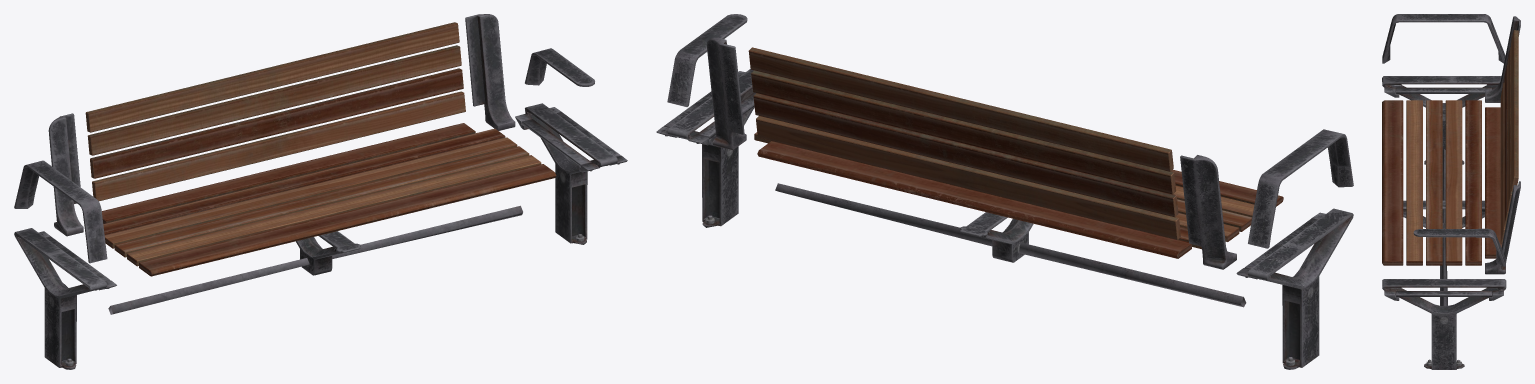
File: StreetBench.obj
The picture shows the model from 3 angles, left to right: view 1: azimuth 30°, elevation 25°; view 2: azimuth 150°, elevation 25°; view 3: azimuth 270°, elevation 25°; orthographic projection. The views are drawn at different scales.
Parts seen in each view (by area): view 1: seat_back, seat, legs_double, legs_single, back_support_l, crossbar, arm_rest_01, back_support_r, suspended_support_01, arm_rest_02; view 2: seat_back, seat, legs_single, legs_double, crossbar, back_support_r, arm_rest_01, back_support_l, arm_rest_02, suspended_support_01; view 3: seat, legs_double, seat_back, legs_single, arm_rest_01, arm_rest_02, back_support_l, back_support_r, crossbar, suspended_support_01.
Boxes of the visible parts, x1=… form: seat_back: x1=85, y1=22, x2=465, y2=201; seat: x1=102, y1=123, x2=556, y2=276; legs_double: x1=515, y1=103, x2=627, y2=244; legs_single: x1=14, y1=228, x2=116, y2=369; back_support_l: x1=465, y1=14, x2=515, y2=130; crossbar: x1=108, y1=205, x2=522, y2=314; arm_rest_01: x1=14, y1=160, x2=107, y2=263; back_support_r: x1=48, y1=113, x2=83, y2=236; suspended_support_01: x1=296, y1=231, x2=360, y2=275; arm_rest_02: x1=525, y1=48, x2=594, y2=86; seat_back: x1=748, y1=47, x2=1180, y2=239; seat: x1=754, y1=132, x2=1283, y2=258; legs_single: x1=1236, y1=208, x2=1353, y2=369; legs_double: x1=656, y1=69, x2=755, y2=227; crossbar: x1=775, y1=183, x2=1246, y2=307; back_support_r: x1=1180, y1=155, x2=1236, y2=269; arm_rest_01: x1=1248, y1=129, x2=1353, y2=248; back_support_l: x1=706, y1=37, x2=746, y2=149; arm_rest_02: x1=667, y1=14, x2=747, y2=106; suspended_support_01: x1=960, y1=212, x2=1033, y2=262; seat: x1=1382, y1=100, x2=1502, y2=265; legs_double: x1=1382, y1=279, x2=1506, y2=369; seat_back: x1=1500, y1=30, x2=1518, y2=244; legs_single: x1=1382, y1=76, x2=1501, y2=164; arm_rest_01: x1=1382, y1=14, x2=1505, y2=63; arm_rest_02: x1=1413, y1=228, x2=1506, y2=266; back_support_l: x1=1485, y1=181, x2=1520, y2=274; back_support_r: x1=1485, y1=16, x2=1520, y2=102; crossbar: x1=1440, y1=149, x2=1447, y2=305; suspended_support_01: x1=1403, y1=200, x2=1484, y2=228.
Bounding box in the file's own units: 2.45 × 0.8669 × 0.6704.
3 materials, 3 textured.
